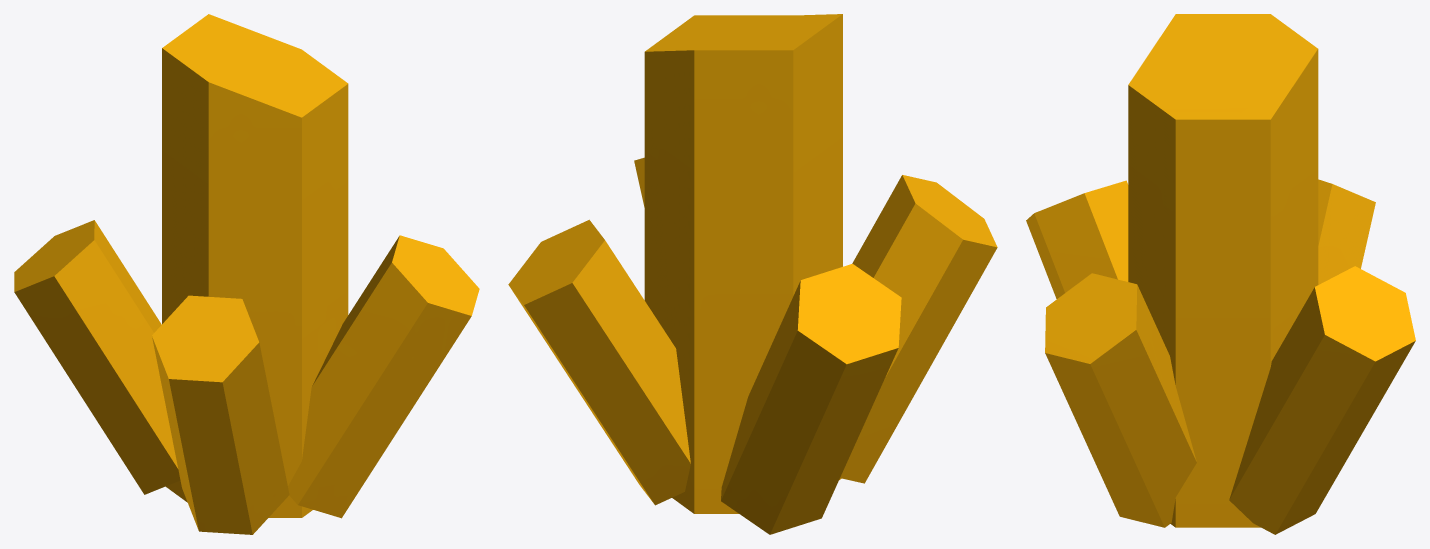
3 renders of one model, left to right at view 1: azimuth 30°, elevation 25°; view 2: azimuth 150°, elevation 25°; view 3: azimuth 270°, elevation 25°, orthographic. The views are drawn at different scales.
Visible parts, largest first — view 1: 9; view 2: 9; view 3: 9.
Part boxes in pixels (box(x1,y1,x2,y2)): 9: box(14, 14, 479, 534); 9: box(508, 14, 997, 534); 9: box(1026, 14, 1415, 534).
Size of the model in its own units: 104 by 125 by 97.99.
1 material, 1 textured.
